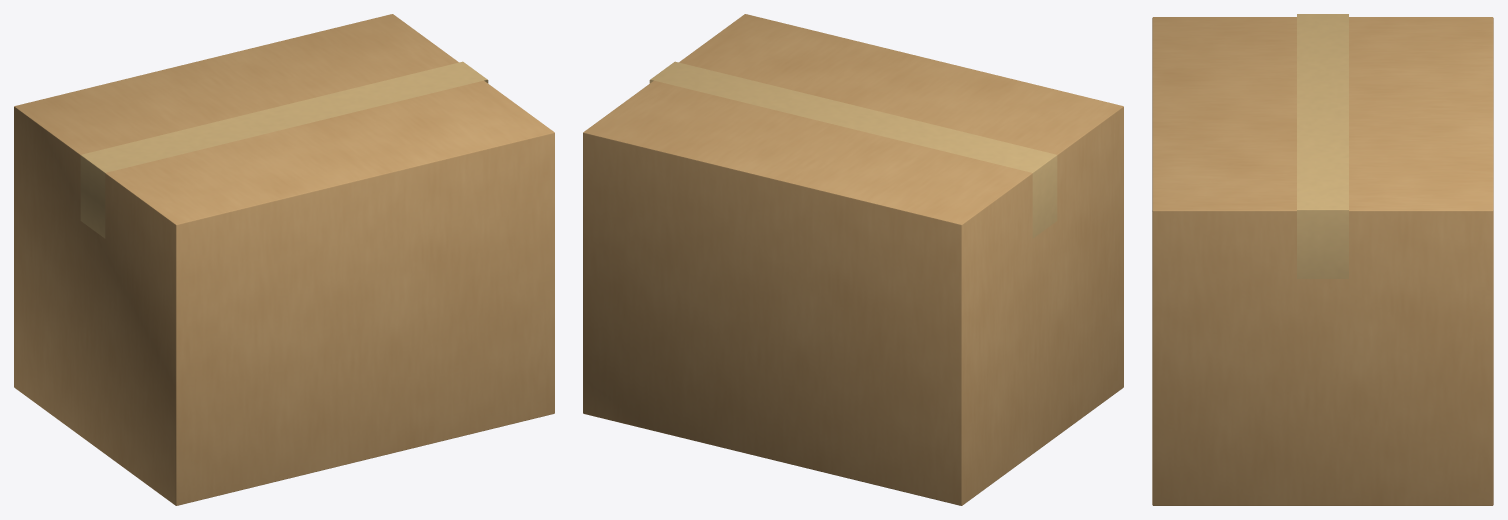
The model's file is SM_Box_Cardboard_L.fbx.
3 views of the same model, side by side, from view 1: azimuth 30°, elevation 25°; view 2: azimuth 150°, elevation 25°; view 3: azimuth 270°, elevation 25° (orthographic). The views are drawn at different scales.
Visible parts, largest first — view 1: SM_Box_Cardboard_L; view 2: SM_Box_Cardboard_L; view 3: SM_Box_Cardboard_L.
Boxes of the visible parts, bbox=[...] form: SM_Box_Cardboard_L: bbox=[14, 14, 554, 505]; SM_Box_Cardboard_L: bbox=[583, 14, 1123, 505]; SM_Box_Cardboard_L: bbox=[1152, 14, 1493, 505].
Size of what is drawn, in the model's own units: 0.626 by 0.443 by 0.46.
3 materials, 3 textured.
